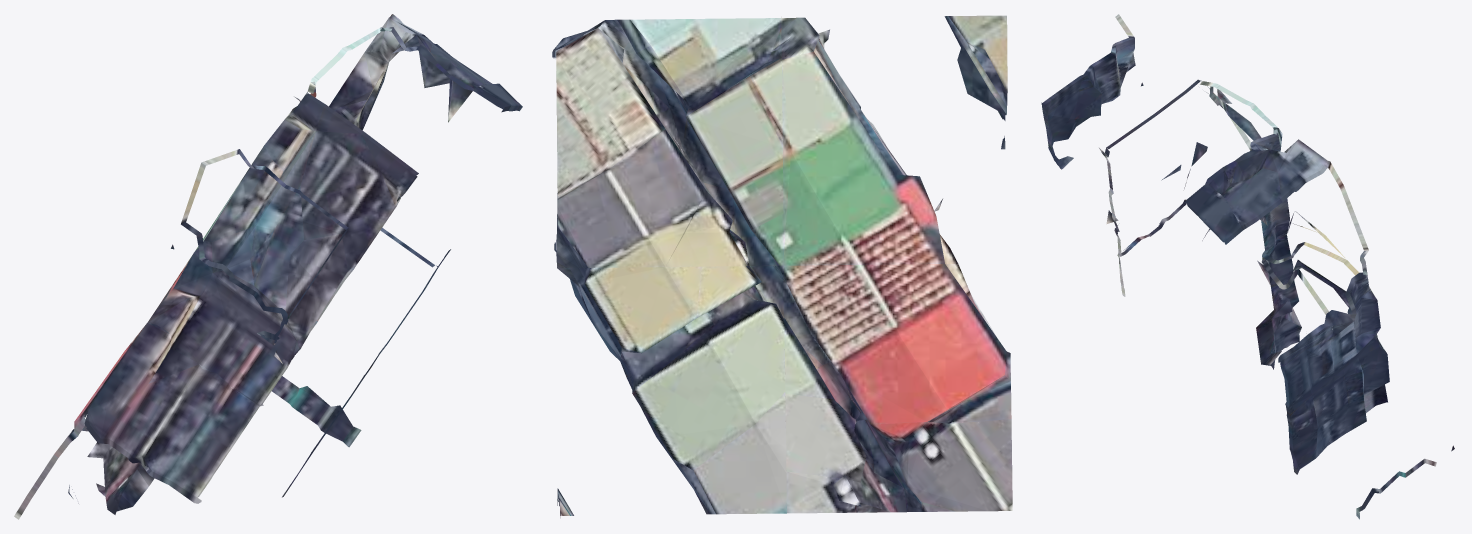
3 views of the same model, side by side, from view 1: azimuth 30°, elevation 25°; view 2: azimuth 150°, elevation 25°; view 3: azimuth 270°, elevation 25° (orthographic). The views are drawn at different scales.
Size of the model in its own units: 43.35 by 39.92 by 38.81.
Materials: 2 (2 with a texture image).
